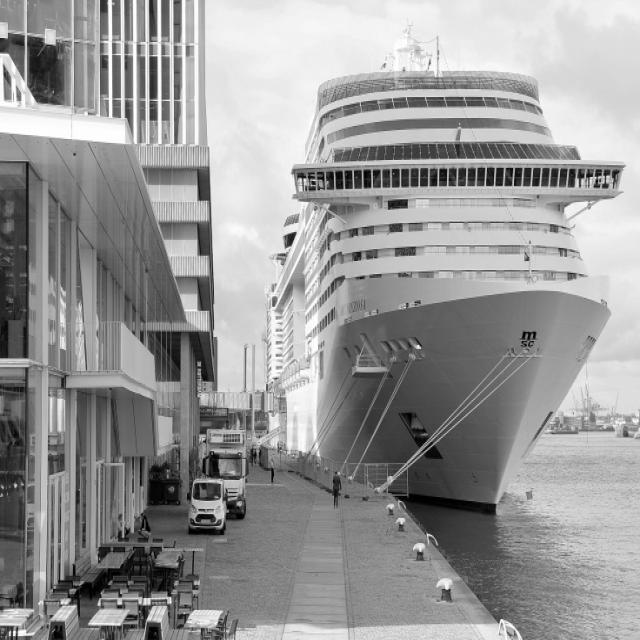cruises: (262, 22, 630, 528)
